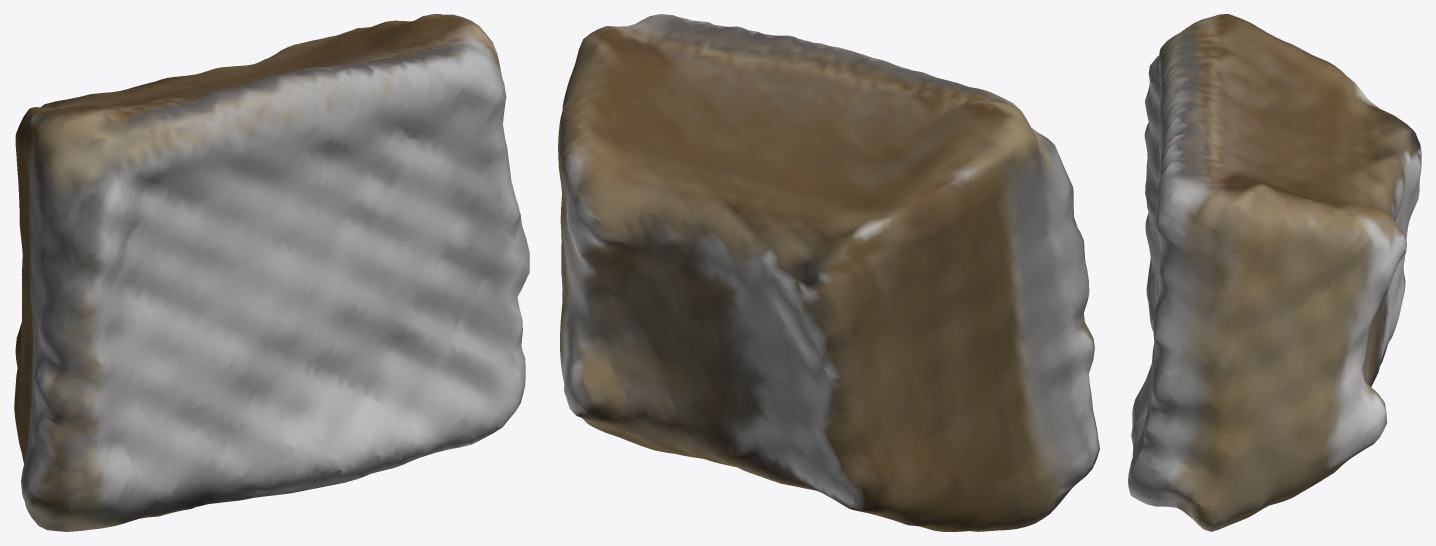
Rendered from soap.glb.
3 views of the same model, side by side, from view 1: azimuth 30°, elevation 25°; view 2: azimuth 150°, elevation 25°; view 3: azimuth 270°, elevation 25° (orthographic). The views are drawn at different scales.
Size of the model in its own units: 0.9999 by 0.7928 by 0.5803.
